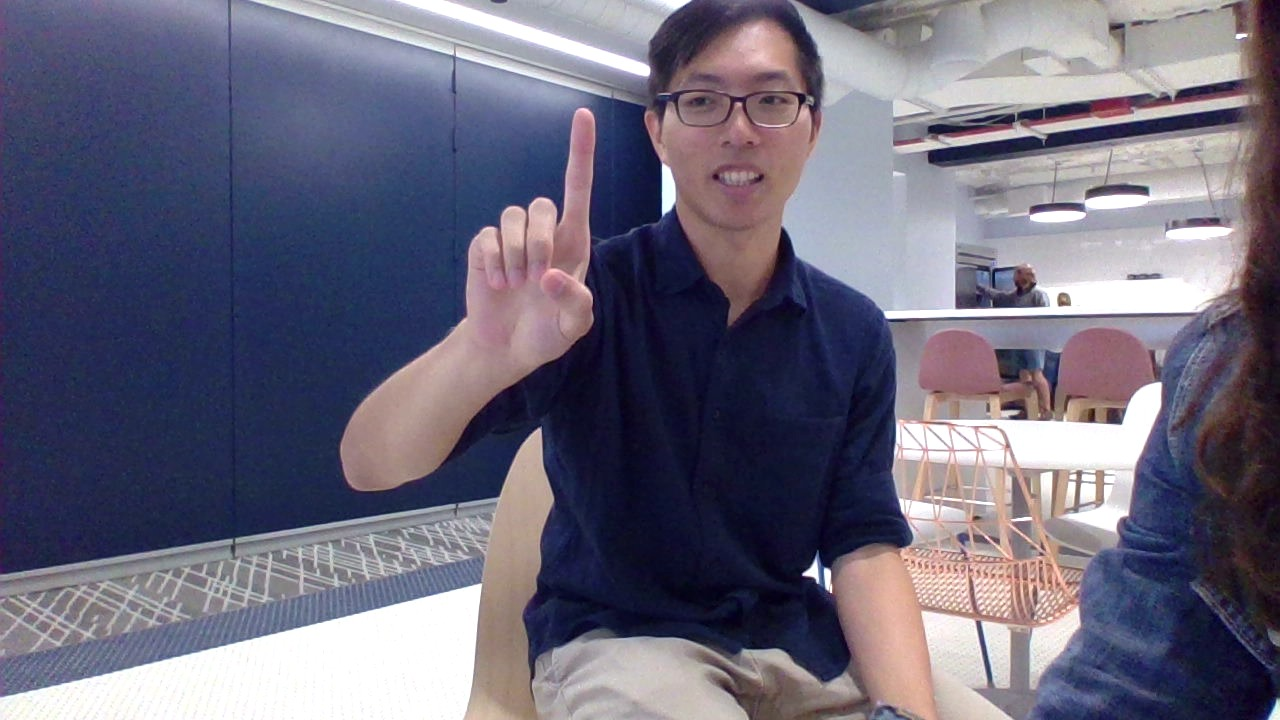d: (444, 84, 620, 393)
